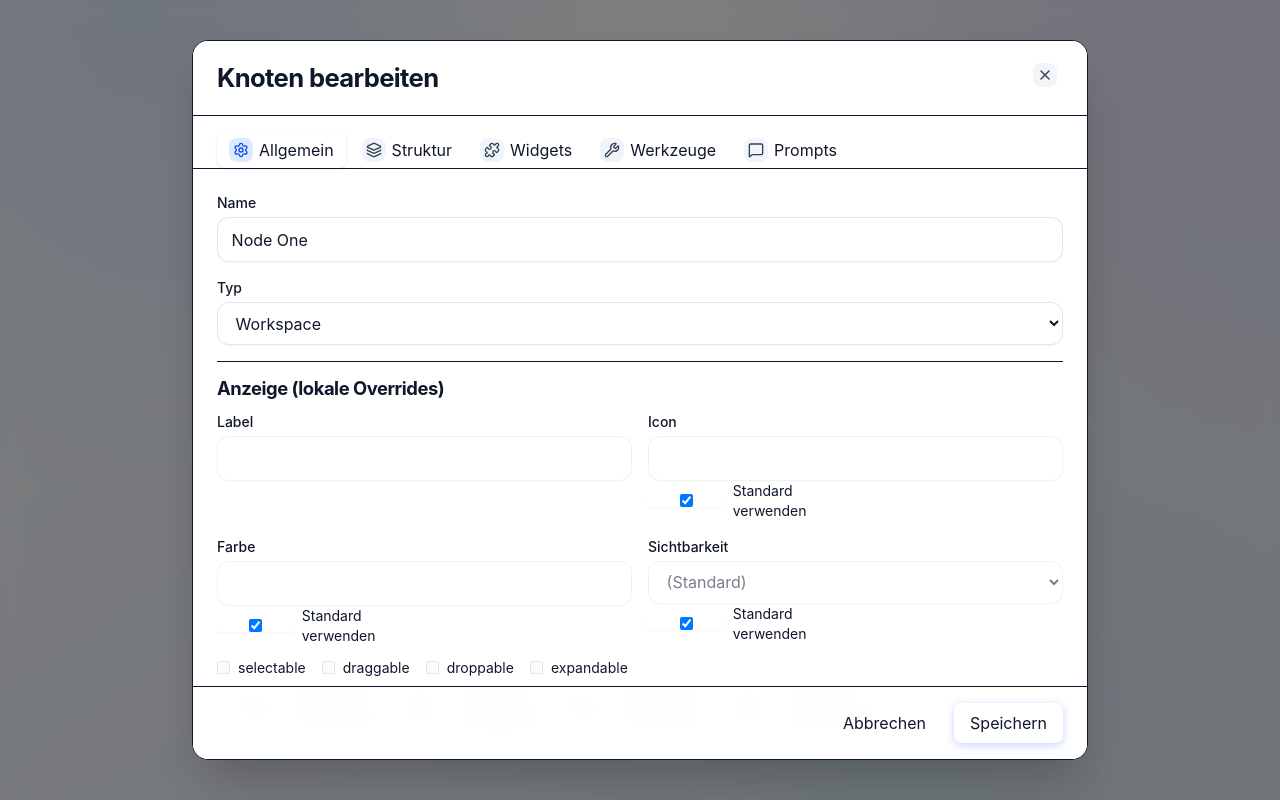
Test case: NodeEditorDialog — Structure tab › root case shows no parent
This screenshot has width=1280, height=800.
Click the tab "Struktur": (407, 150) x1=350 y1=132 x2=464 y2=168
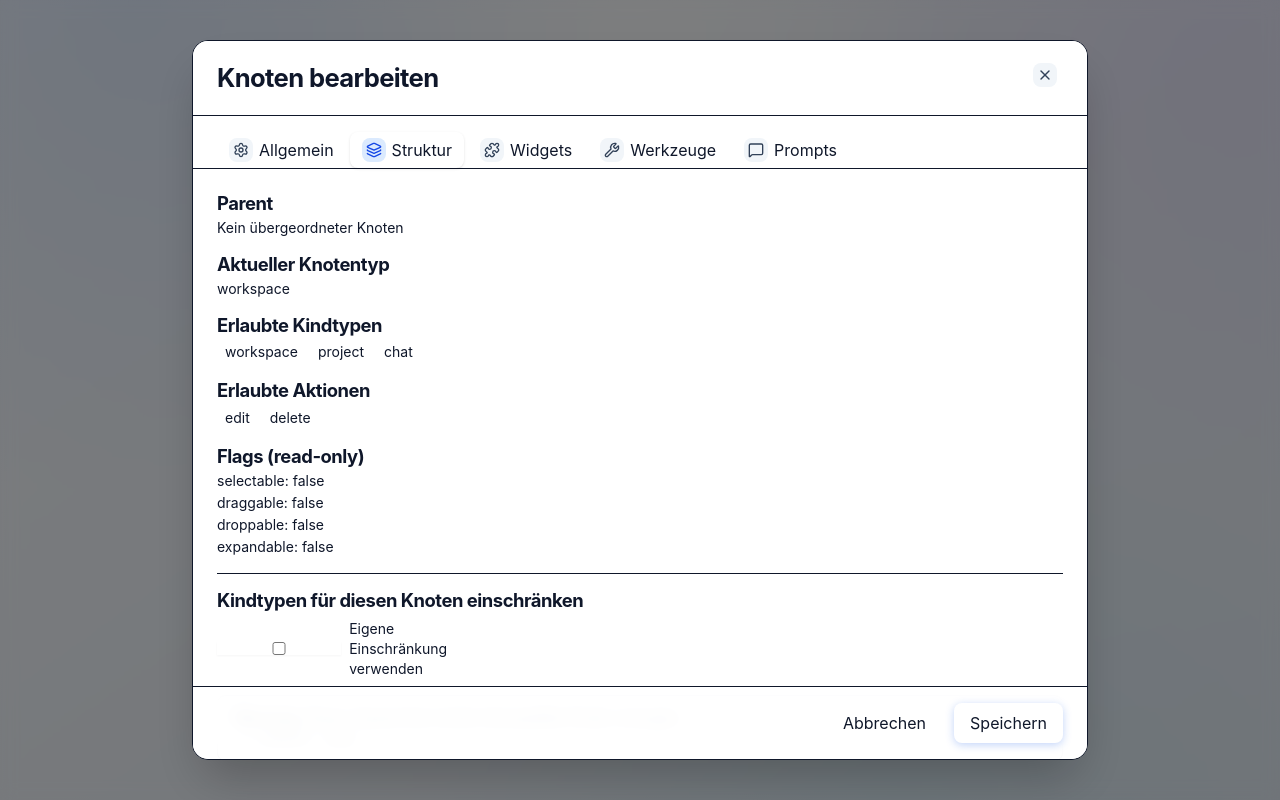
expect the text "Kein übergeordneter Knoten" is shown: met, box x1=217 y1=219 x2=404 y2=236
